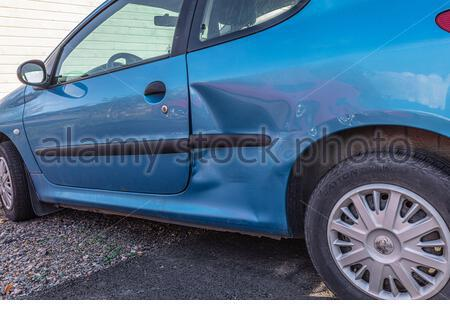doorouter-dent: (172, 72, 292, 232)
